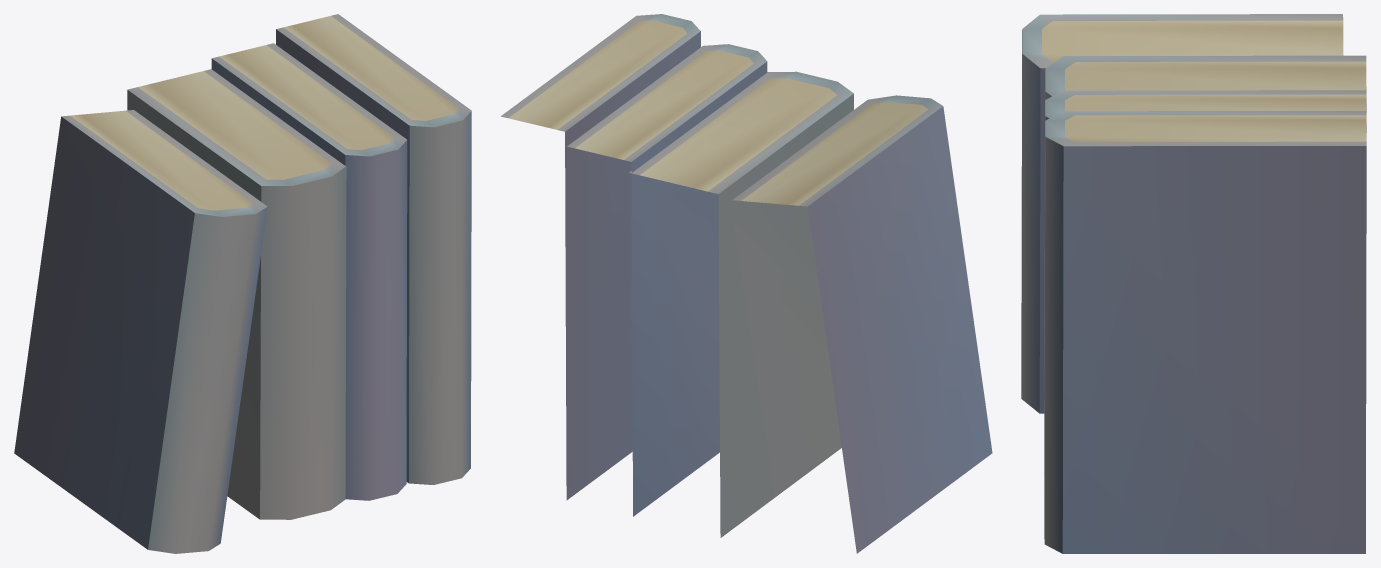
Rendered from BookGroup_Small_1.glb.
3 renders of one model, left to right at view 1: azimuth 30°, elevation 25°; view 2: azimuth 150°, elevation 25°; view 3: azimuth 270°, elevation 25°, orthographic. The views are drawn at different scales.
Visible parts, largest first — view 1: BookGroup_Small_1; view 2: BookGroup_Small_1; view 3: BookGroup_Small_1.
Boxes of the visible parts, x1,y1,x2,y2 form: BookGroup_Small_1: [14, 14, 471, 553]; BookGroup_Small_1: [501, 14, 992, 553]; BookGroup_Small_1: [1021, 14, 1366, 553].
Size of the model in its own units: 0.2893 by 0.2983 by 0.2256.
